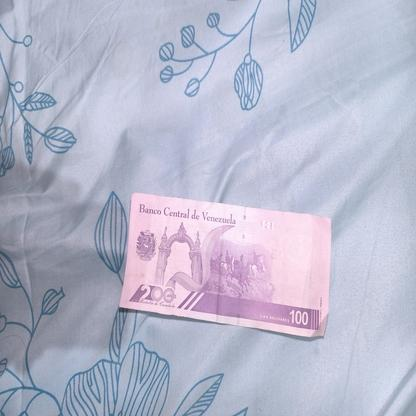one_hundred-back-vef: (118, 192, 332, 338)
